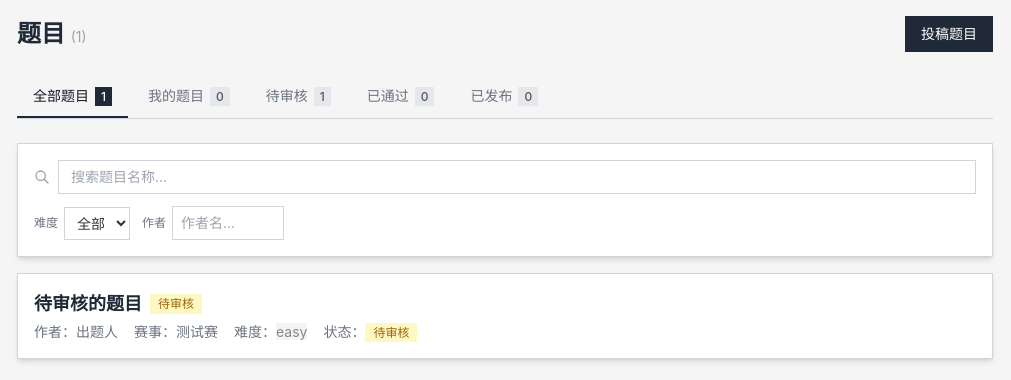
Test: ProblemsPage 待审核 Tab › 渲染与其它 Tab 一致的题目卡片，并在右上角提供通过/回复/退回
The width and height of the screenshot is (1011, 380).
Click the button "待审核1". click: x=298, y=97
box: [250,76,347,118]
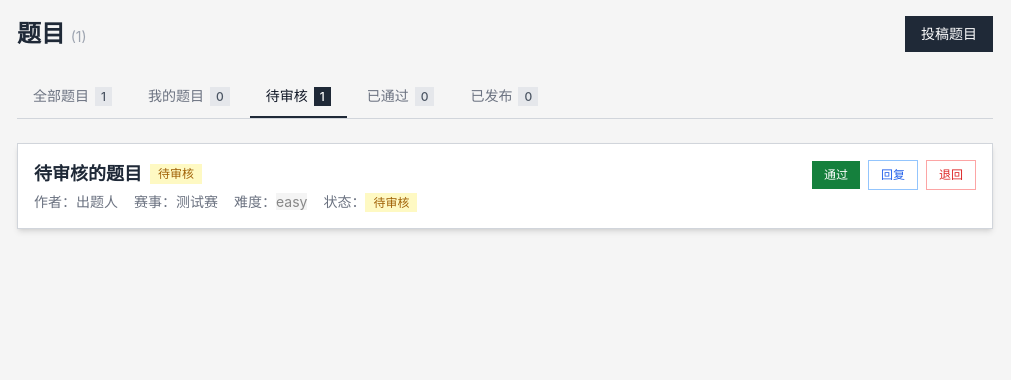
Expected: the button "通过" is shown, [812,161,860,189]
Expected: the button "回复" is shown, [868,160,918,190]
Expected: the button "退回" is shown, [926,160,976,190]
